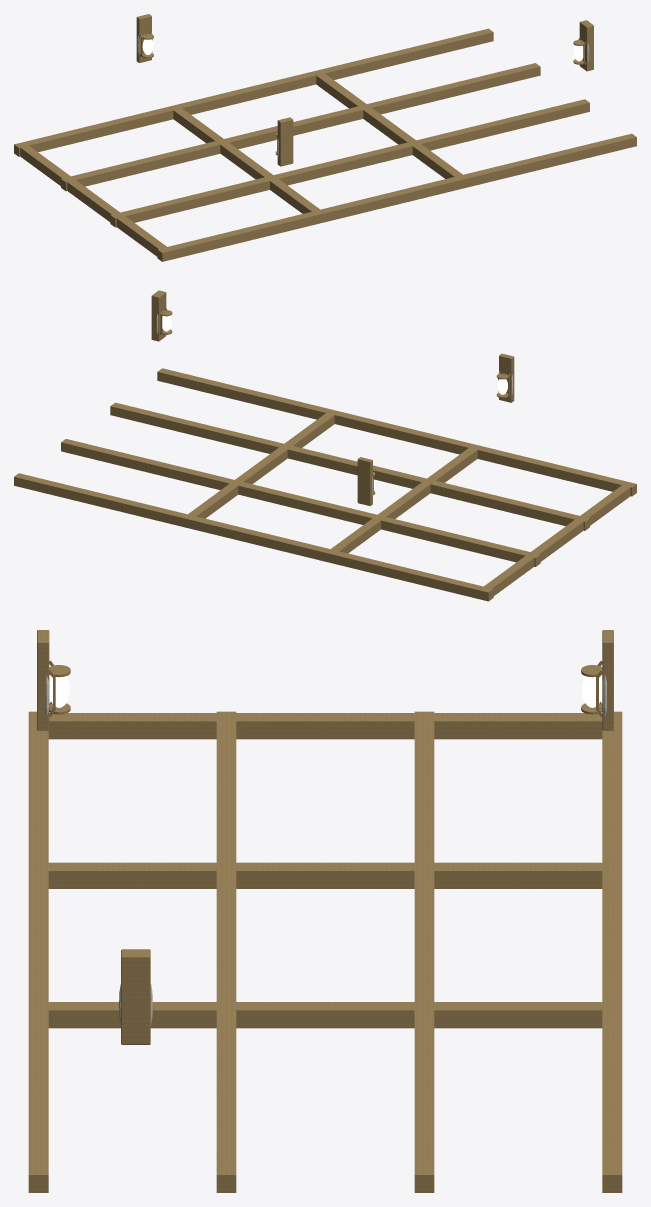
The model's file is STAR_ATLAS_D17_STANDARD823_FRAME_r001.glb.
3 views of the same model, one above another, from view 1: azimuth 30°, elevation 25°; view 2: azimuth 150°, elevation 25°; view 3: azimuth 270°, elevation 25° (orthographic). The views are drawn at different scales.
Parts seen in each view (by area): view 1: SA823_Transverse3, SA823_Transverse0, SA823_Transverse2, SA823_Transverse1, SA823_Longitudinal2, SA823_Longitudinal0, SA823_Longitudinal1, SA823_RestMount, SA823_BathMount, SA823_ReadingMount; view 2: SA823_Transverse0, SA823_Transverse3, SA823_Transverse1, SA823_Transverse2, SA823_Longitudinal0, SA823_Longitudinal1, SA823_Longitudinal2, SA823_ReadingMount, SA823_BathMount, SA823_RestMount; view 3: SA823_Longitudinal1, SA823_Longitudinal0, SA823_Longitudinal2, SA823_Transverse2, SA823_Transverse1, SA823_Transverse0, SA823_Transverse3, SA823_BathMount, SA823_RestMount, SA823_ReadingMount.
Part boxes in pixels (box(x1,y1,x2,y2)): SA823_Transverse3: box(157, 133, 636, 261); SA823_Transverse0: box(14, 28, 493, 156); SA823_Transverse2: box(110, 99, 589, 227); SA823_Transverse1: box(61, 63, 540, 191); SA823_Longitudinal2: box(312, 70, 468, 189); SA823_Longitudinal0: box(20, 142, 172, 259); SA823_Longitudinal1: box(169, 105, 325, 223); SA823_RestMount: box(277, 117, 293, 166); SA823_BathMount: box(579, 20, 593, 71); SA823_ReadingMount: box(136, 14, 151, 62); SA823_Transverse0: box(14, 473, 493, 601); SA823_Transverse3: box(157, 368, 636, 496); SA823_Transverse1: box(61, 439, 540, 566); SA823_Transverse2: box(110, 402, 589, 530); SA823_Longitudinal0: box(478, 485, 630, 600); SA823_Longitudinal1: box(325, 444, 480, 563); SA823_Longitudinal2: box(184, 409, 339, 528); SA823_ReadingMount: box(357, 457, 372, 505); SA823_BathMount: box(151, 290, 166, 341); SA823_RestMount: box(499, 353, 514, 402); SA823_Longitudinal1: box(30, 862, 615, 888); SA823_Longitudinal0: box(31, 713, 622, 739); SA823_Longitudinal2: box(28, 1002, 622, 1028); SA823_Transverse2: box(216, 711, 236, 1192); SA823_Transverse1: box(414, 711, 434, 1192); SA823_Transverse0: box(602, 711, 622, 1192); SA823_Transverse3: box(28, 711, 48, 1192); SA823_BathMount: box(121, 949, 150, 1044); SA823_RestMount: box(37, 630, 49, 730); SA823_ReadingMount: box(602, 630, 613, 730).
Size of the model in its own units: 13.3 by 2.91 by 7.2.
4 materials, 3 textured.
